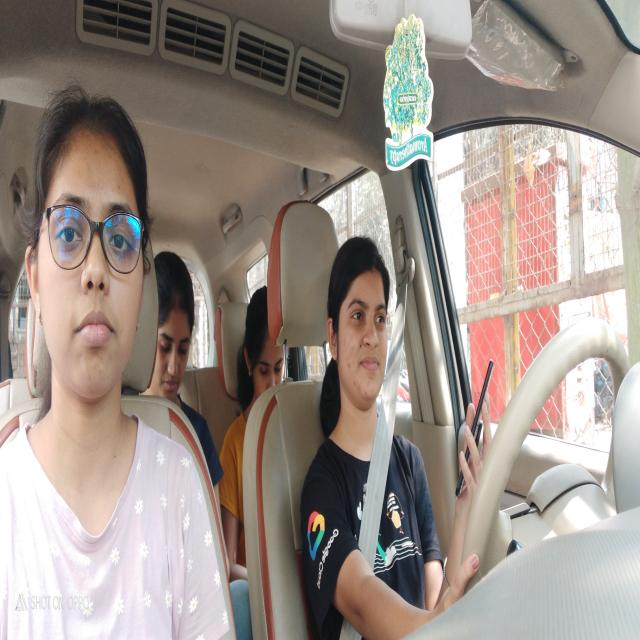mobile: (455, 341, 494, 506)
person: (24, 84, 149, 428), (325, 234, 397, 441), (152, 252, 196, 419), (238, 271, 290, 400)
